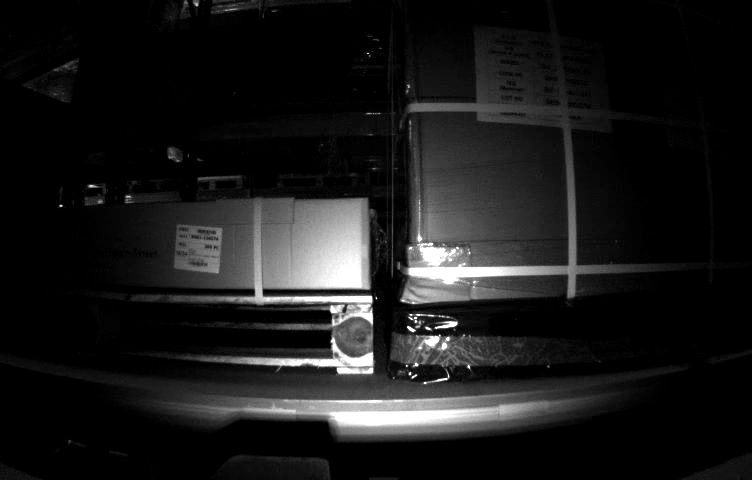True Barcode: (175, 221, 225, 275)
